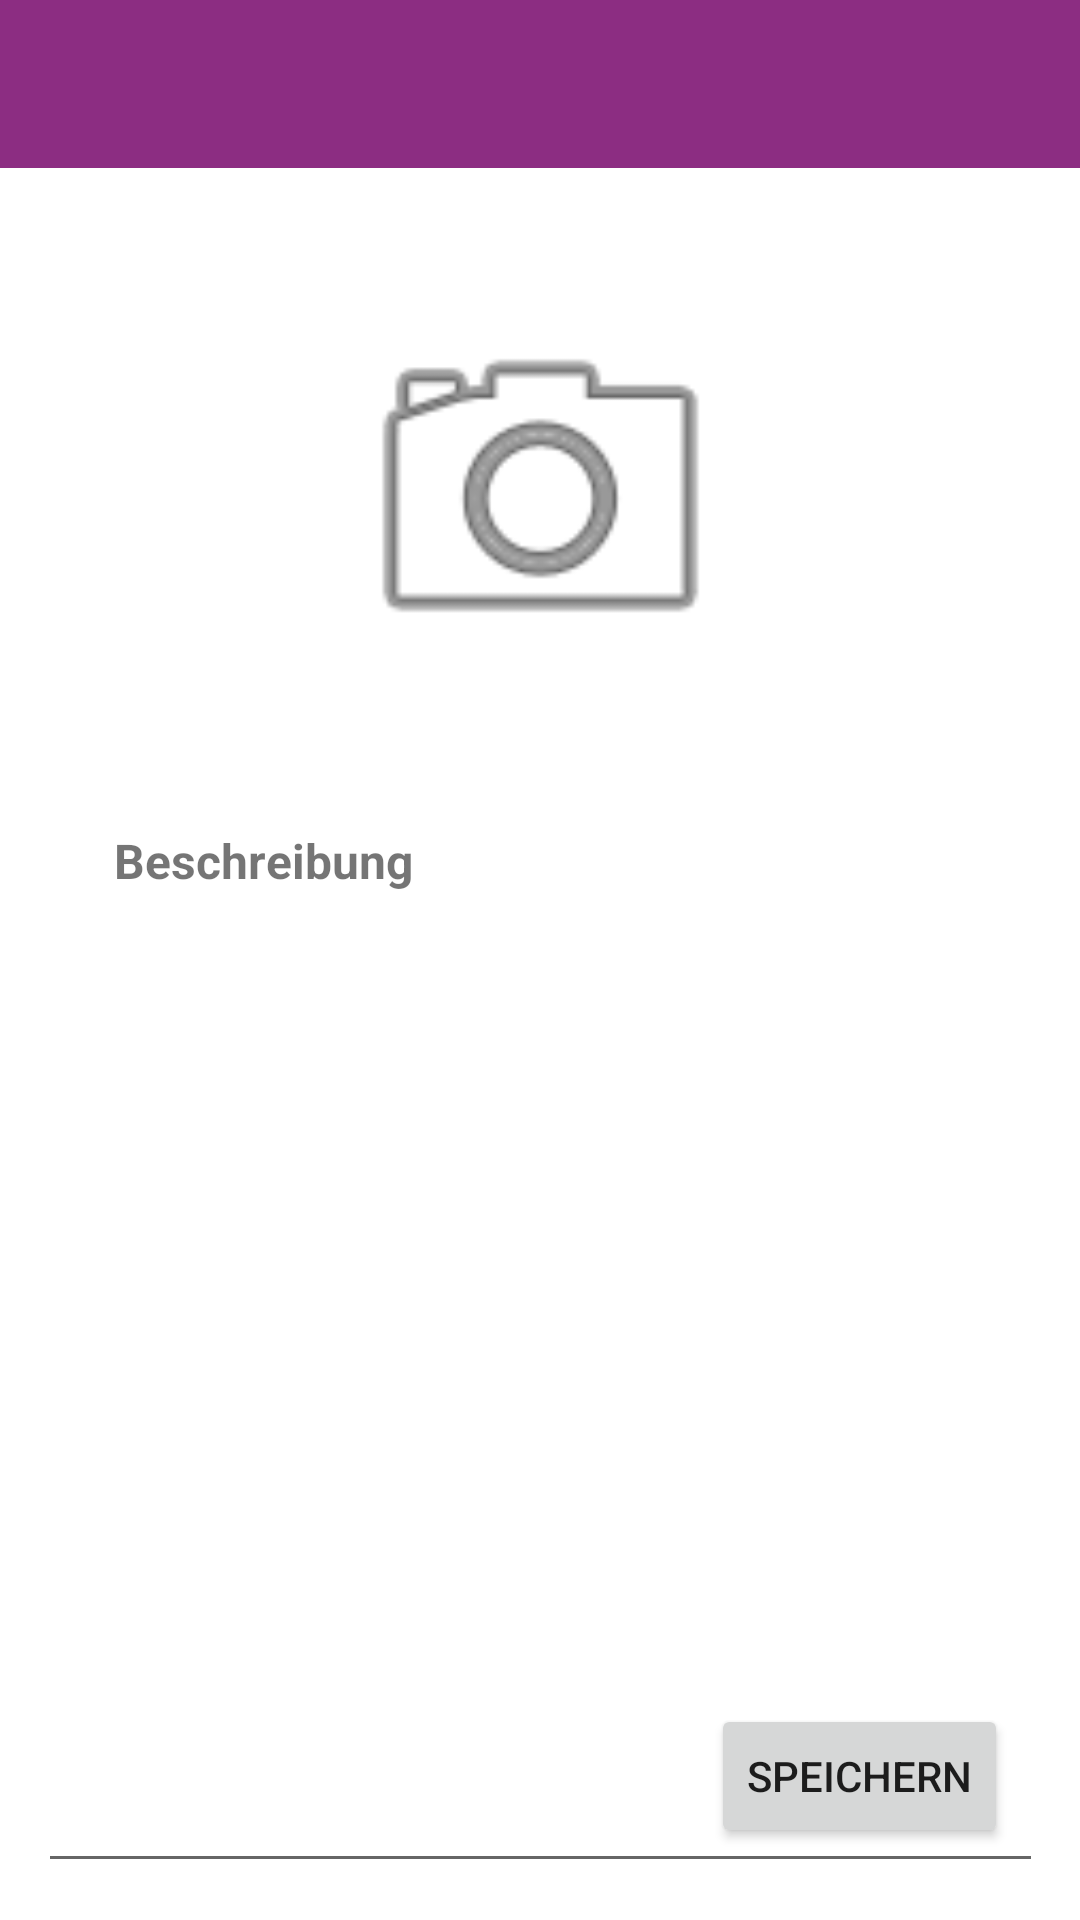

Screen size 1080w x 1920h. Icon name, then its box in pixels as bbox(x1, y1, x2, y2):
camera: bbox(383, 360, 698, 612)
